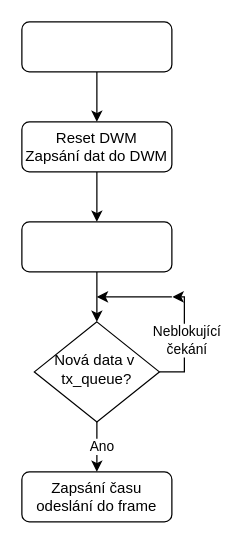
The diagram is 241 pixels wide and 544 high, and some of its shapes have lost their labels. The box of each missing label's shape, as (x1, y1, x2, y2) in pixels:
dwm_tx(frame): (21, 21, 172, 72)
Začátek odesílání: (21, 221, 172, 272)
